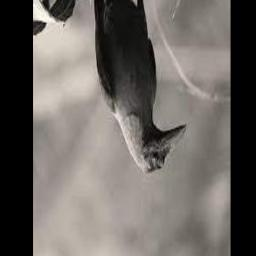Crow: (93, 0, 187, 175)
